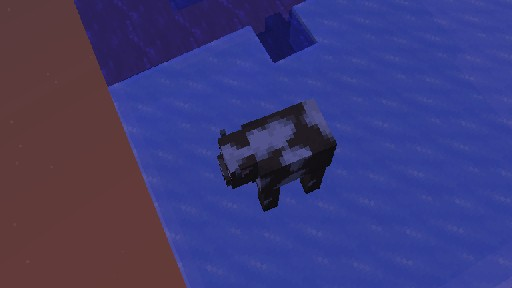cow: (216, 97, 337, 212)
